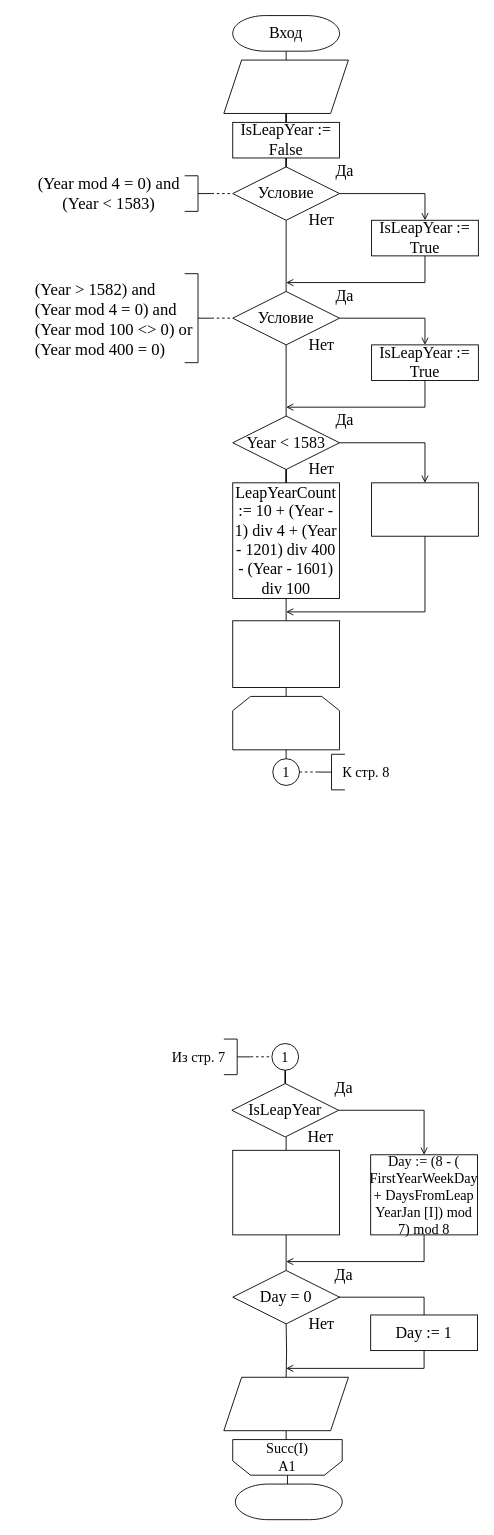
Some shapes in this 494 by 1535 pixel diagram are drawn without their labels. The centre of each missing label's shape, as x and y in pixels:
A1 I := Jan; I <> Dec;: [286,723]
Day := (8 - ( FirstYearWeekDay + DaysFromJan [I]) mod 7) mod 8: [286,1192]
FirstYearWeekDay := (Year + LeapYearCount + 4) mod 7: [286,654]
LeapYearCount := (Year - 1) div 4: [424,509]
Ввод Day: [285,1403]
Ввод Year: [285,86]
Выход: [288,1501]
